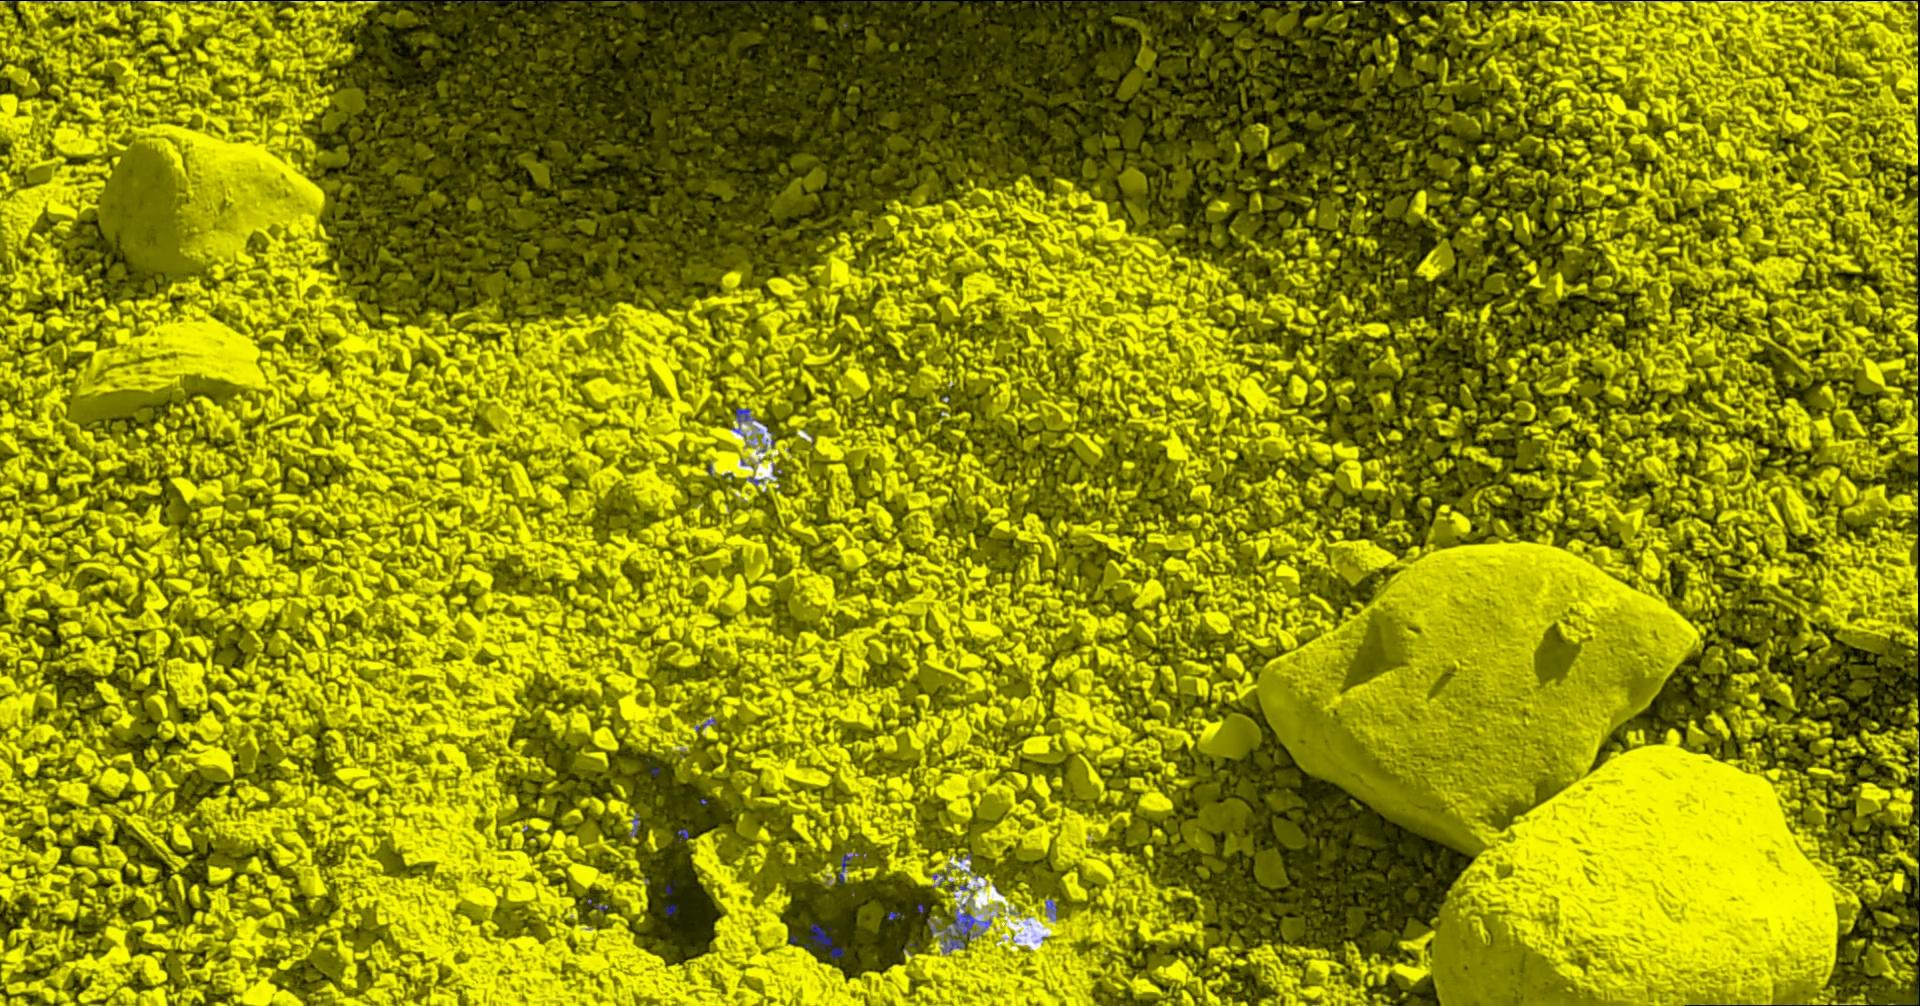ant: (942, 909, 979, 951), (806, 923, 844, 958), (841, 852, 853, 883), (737, 406, 759, 422), (678, 828, 690, 842), (1275, 0, 1324, 3), (1200, 0, 1255, 1)
